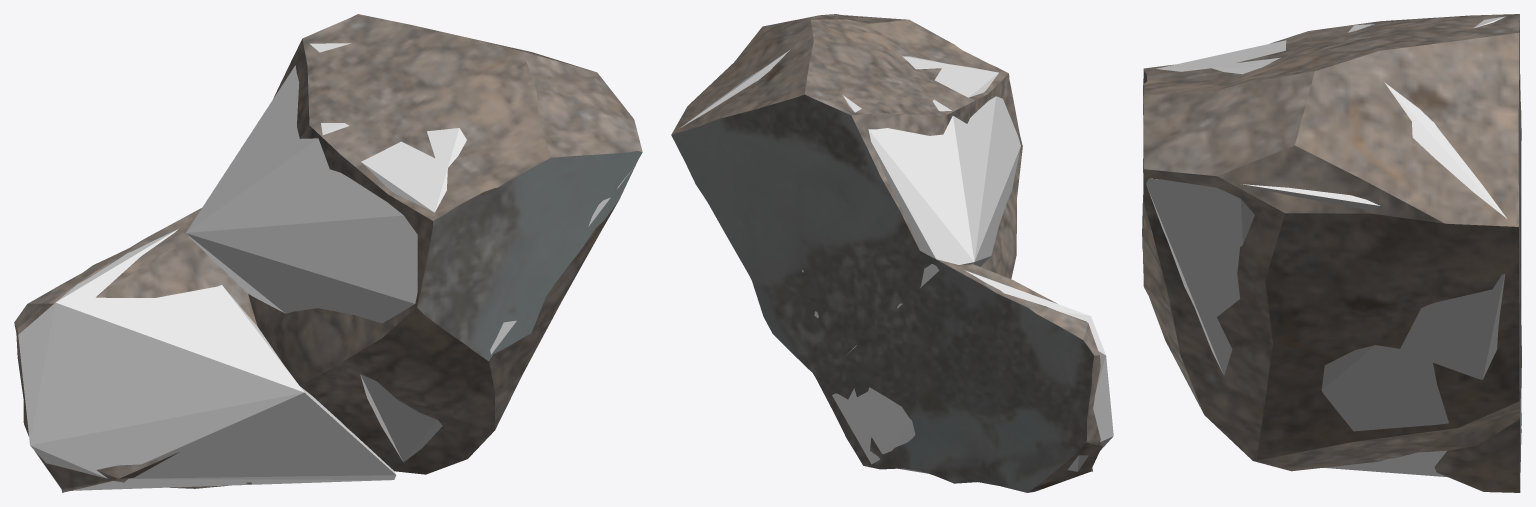
File: SM_Rock_46.fbx
The picture shows the model from 3 angles, left to right: view 1: azimuth 30°, elevation 25°; view 2: azimuth 150°, elevation 25°; view 3: azimuth 270°, elevation 25°; orthographic projection. The views are drawn at different scales.
Visible parts, largest first — view 1: SM_Rock_46_LOD0, SM_Rock_46_ConvexHulls; view 2: SM_Rock_46_LOD0, SM_Rock_46_ConvexHulls; view 3: SM_Rock_46_LOD0, SM_Rock_46_ConvexHulls.
Boxes of the visible parts, x1,y1,x2,y2 form: SM_Rock_46_LOD0: [14, 14, 642, 492]; SM_Rock_46_ConvexHulls: [18, 43, 633, 490]; SM_Rock_46_LOD0: [671, 14, 1103, 492]; SM_Rock_46_ConvexHulls: [679, 49, 1113, 473]; SM_Rock_46_LOD0: [1142, 14, 1521, 492]; SM_Rock_46_ConvexHulls: [1146, 16, 1520, 477].
Size of the model in its own units: 74.93 by 40.13 by 59.49.
